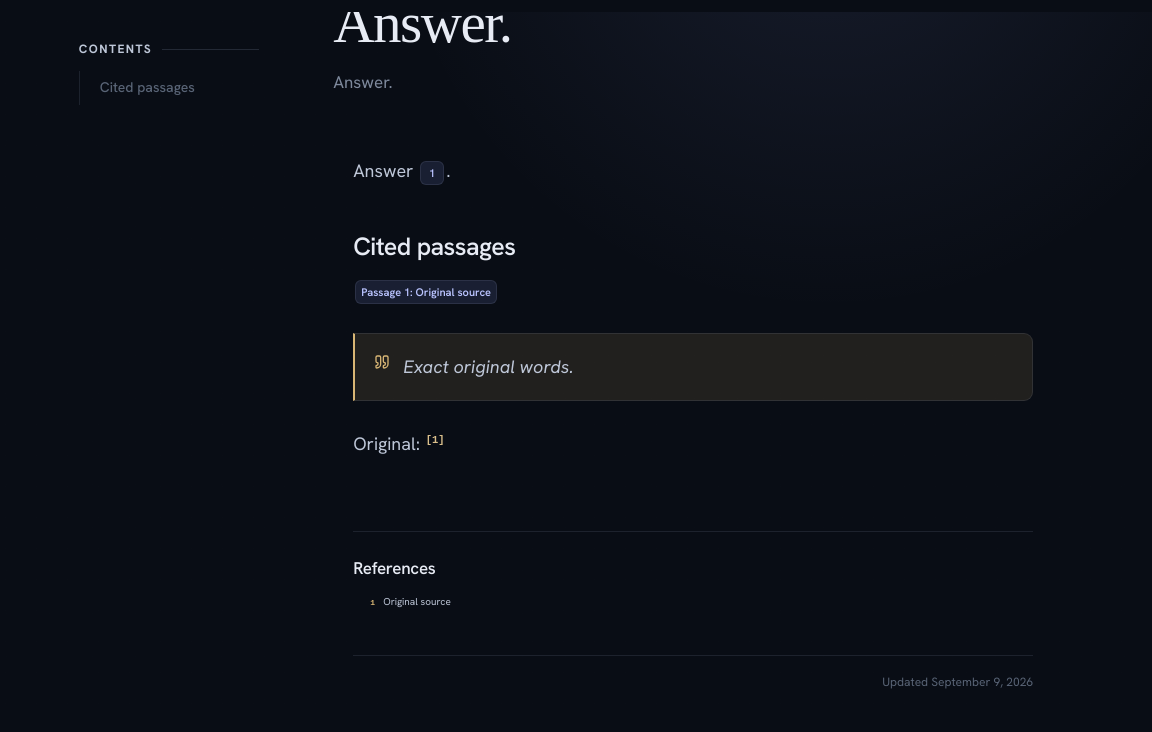
Scenario: does not label current Keep as note's own provenance attachment as a changed original
(page scrolled)
What coordinates should you click on to do the following:
click the button named "Read citation: Original source"
I would click on:
 (432, 172)
Its box is x1=420 y1=160 x2=444 y2=184.
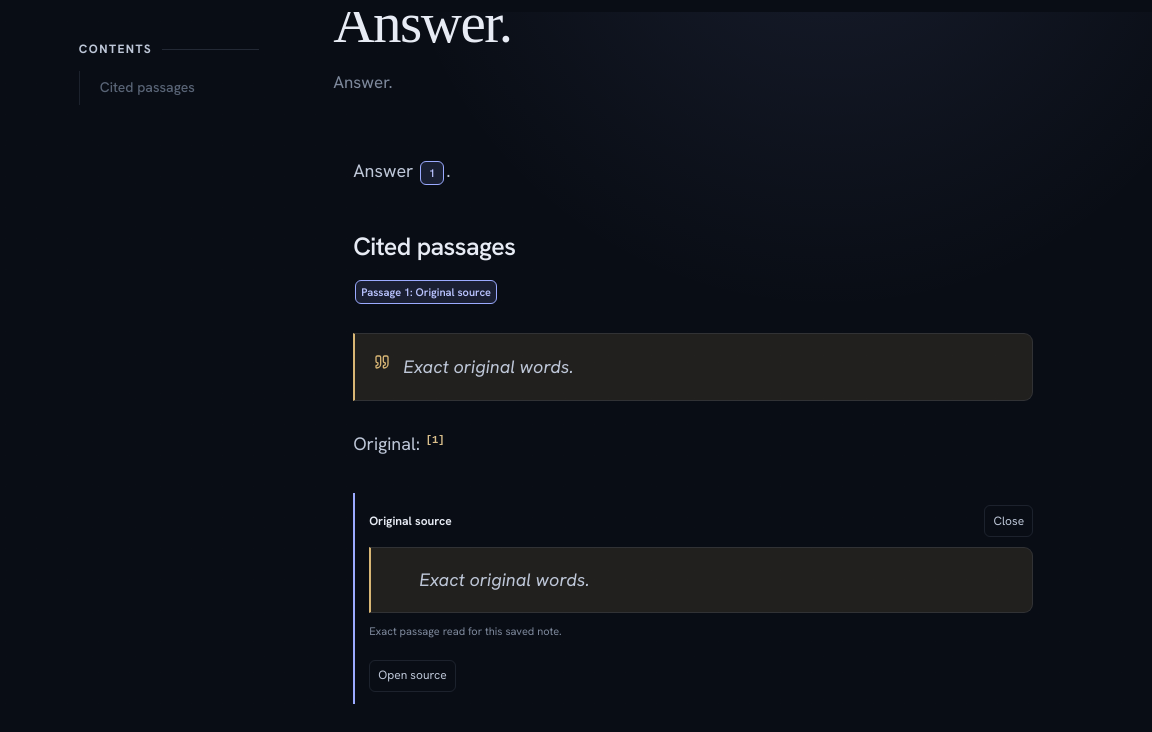
Expected: the element named "Cited passage" does not show "has changed", x1=353 y1=493 x2=1033 y2=704
Now the element named "Cited passage" shows "Exact passage read for this saved note.", box x1=369 y1=624 x2=562 y2=638
